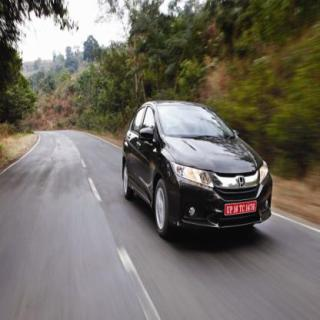Normal_vehicle: (121, 100, 272, 238)
